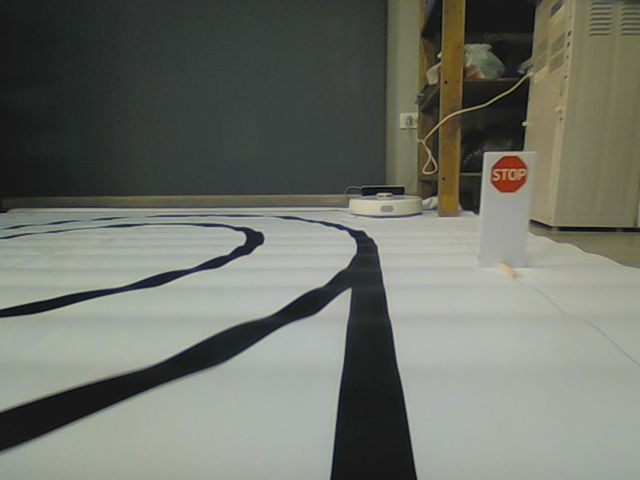Stop: (489, 155, 530, 192)
